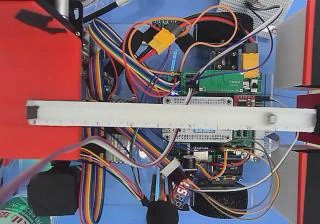ironball: (266, 113, 276, 124)
